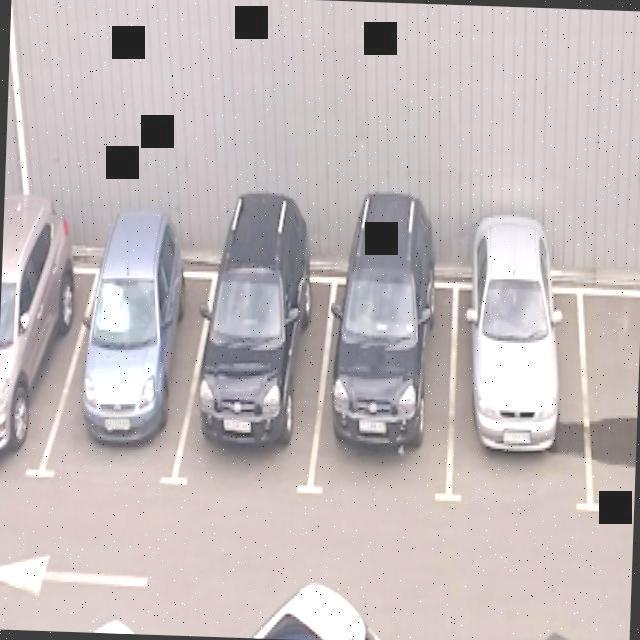space-occupied: (63, 226, 206, 478), (330, 238, 449, 511), (201, 214, 323, 479), (456, 278, 587, 516), (0, 202, 78, 476)
